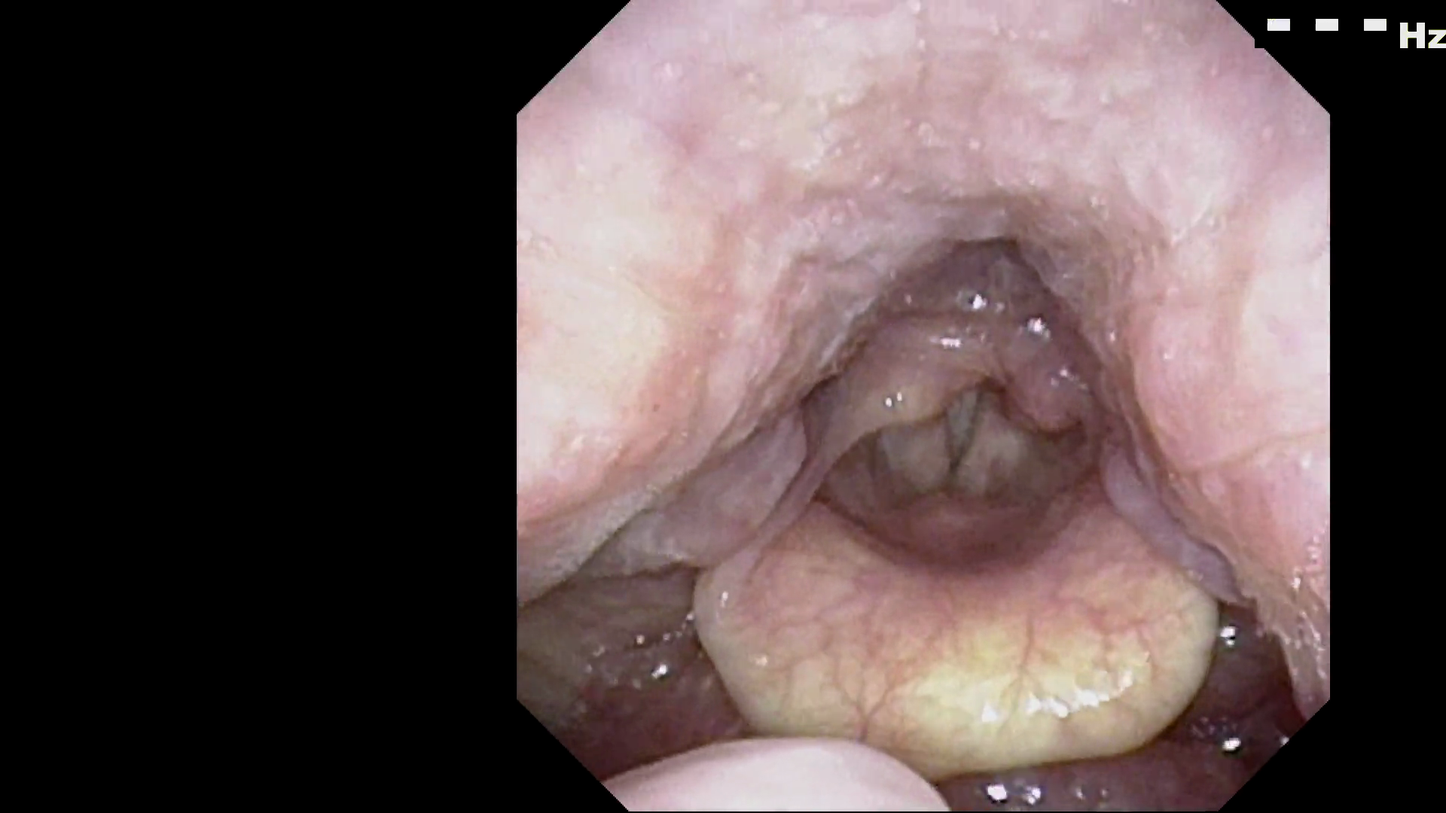epiglottis: (661, 500, 1263, 759)
trachea: (876, 349, 1043, 537)
